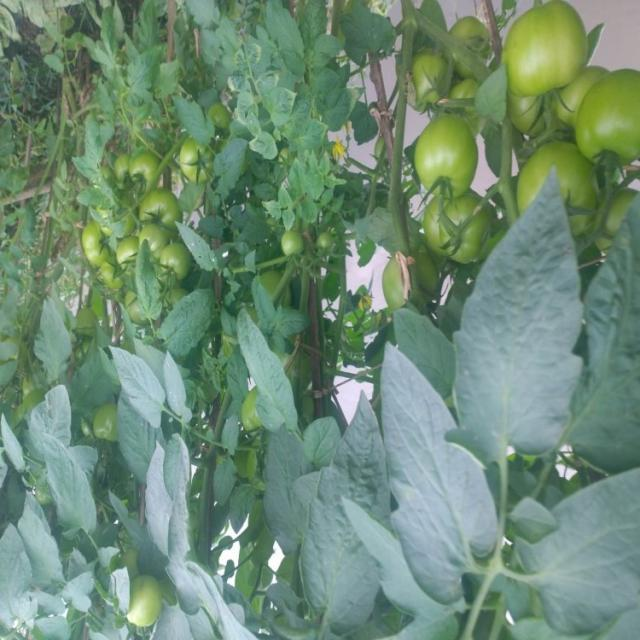tomato: (503, 133, 609, 234), (569, 55, 640, 174), (506, 1, 598, 88), (425, 188, 497, 281), (547, 61, 614, 134), (489, 80, 555, 151), (402, 128, 465, 190), (407, 42, 460, 113), (153, 232, 215, 288), (117, 574, 175, 630), (172, 136, 236, 186), (136, 184, 193, 232), (105, 230, 157, 281), (440, 22, 486, 75), (127, 155, 172, 188), (100, 143, 140, 173), (93, 256, 125, 293), (308, 219, 335, 261), (279, 230, 306, 264), (80, 225, 104, 263)
